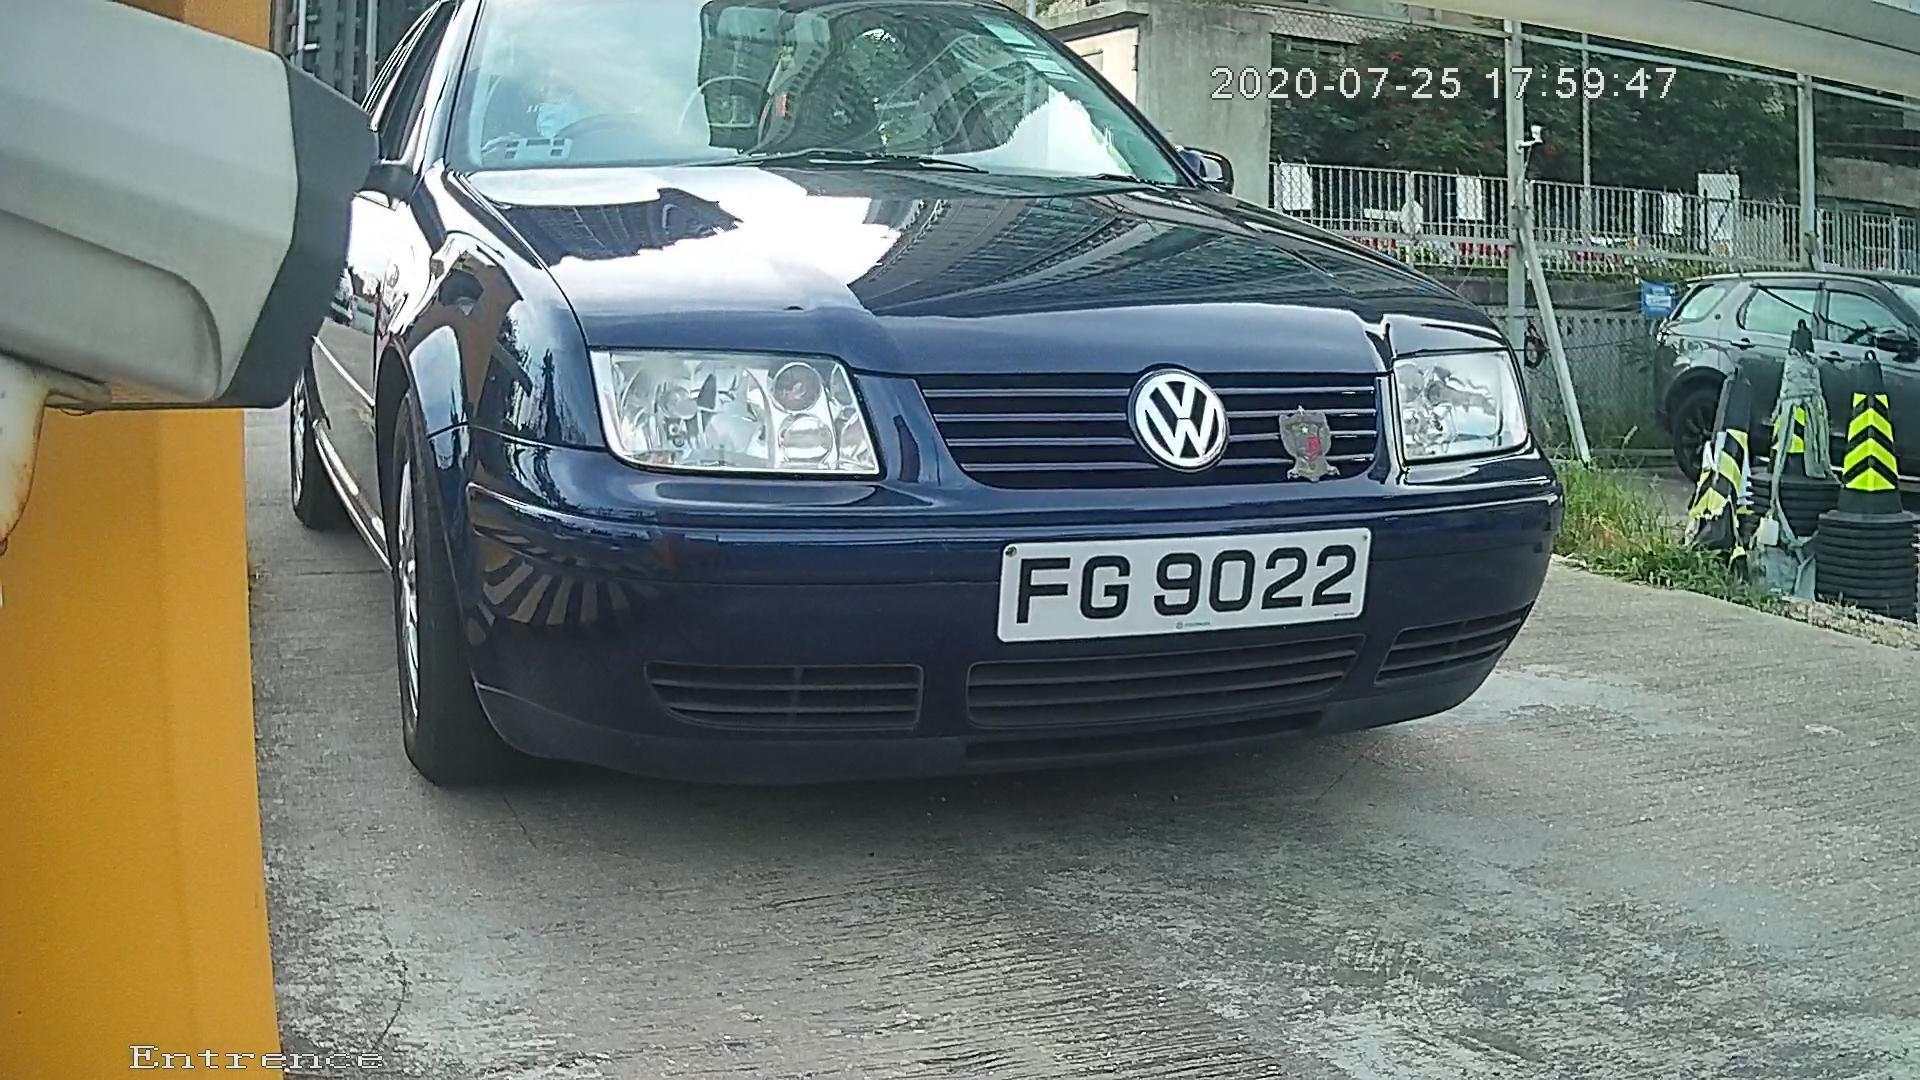privatecar: (223, 40, 1638, 810)
